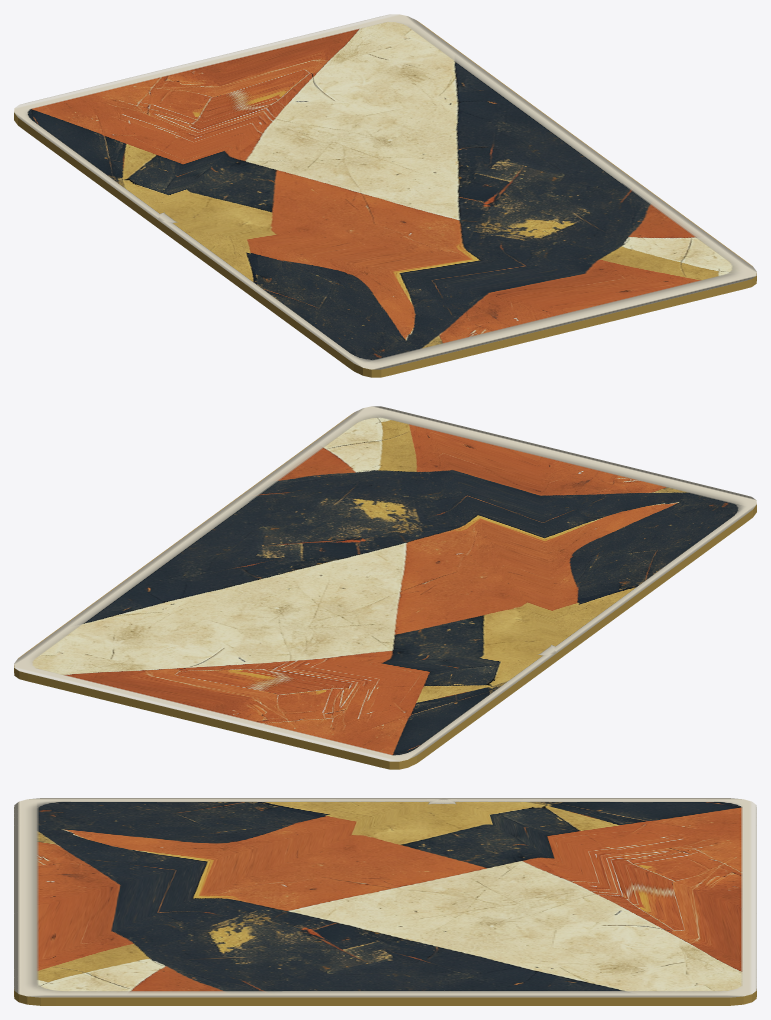
File: ReversionCard.fbx
The picture shows the model from 3 angles, top to bottom: view 1: azimuth 30°, elevation 25°; view 2: azimuth 150°, elevation 25°; view 3: azimuth 270°, elevation 25°; orthographic projection. The views are drawn at different scales.
Parts seen in each view (by area): view 1: DeathCard; view 2: DeathCard; view 3: DeathCard.
Part boxes in pixels (x1,y1,x2,y2): DeathCard: [14, 14, 756, 377]; DeathCard: [14, 406, 756, 769]; DeathCard: [14, 798, 756, 1005].
Size of the model in its own units: 317 by 6.06 by 498.
1 material, 1 textured.
